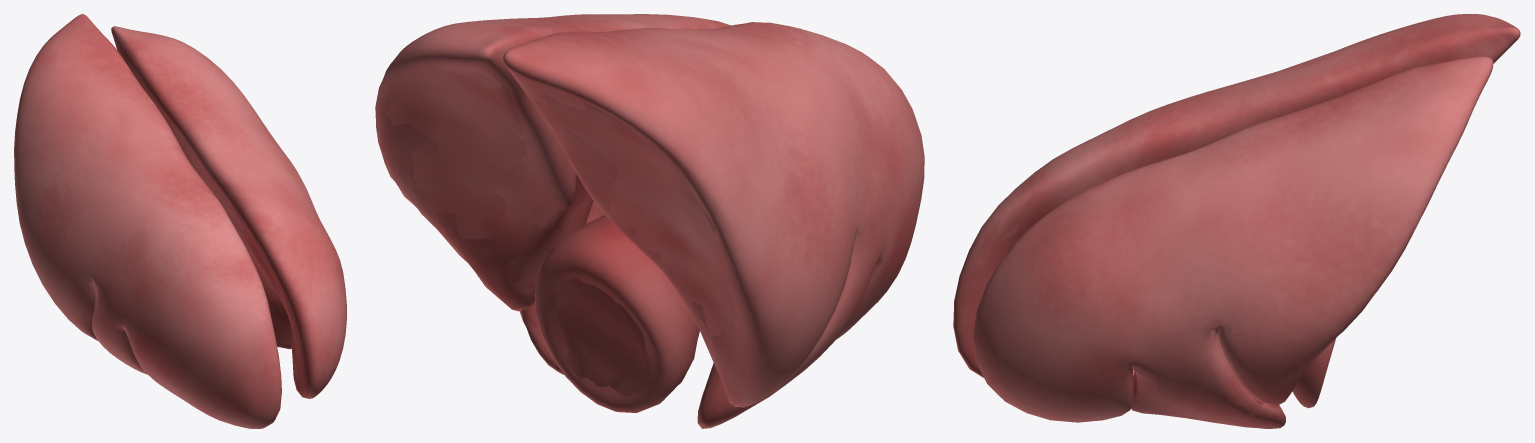
Rendered from Lungs.fbx.
The picture shows the model from 3 angles, left to right: view 1: azimuth 30°, elevation 25°; view 2: azimuth 150°, elevation 25°; view 3: azimuth 270°, elevation 25°; orthographic projection. The views are drawn at different scales.
Visible parts, largest first — view 1: Lungs, Lungs high, Lungs low; view 2: Lungs, Lungs low, Lungs high; view 3: Lungs, Lungs high, Lungs low.
Part boxes in pixels (x1,y1,x2,y2): Lungs: [14, 14, 346, 428]; Lungs high: [16, 15, 345, 427]; Lungs low: [43, 76, 311, 389]; Lungs: [375, 14, 924, 428]; Lungs low: [387, 18, 885, 396]; Lungs high: [376, 14, 920, 426]; Lungs: [953, 14, 1520, 428]; Lungs high: [954, 15, 1517, 428]; Lungs low: [1001, 51, 1477, 416].
Size of the model in its own units: 18.15 by 19.68 by 27.02.
1 material, 1 textured.
